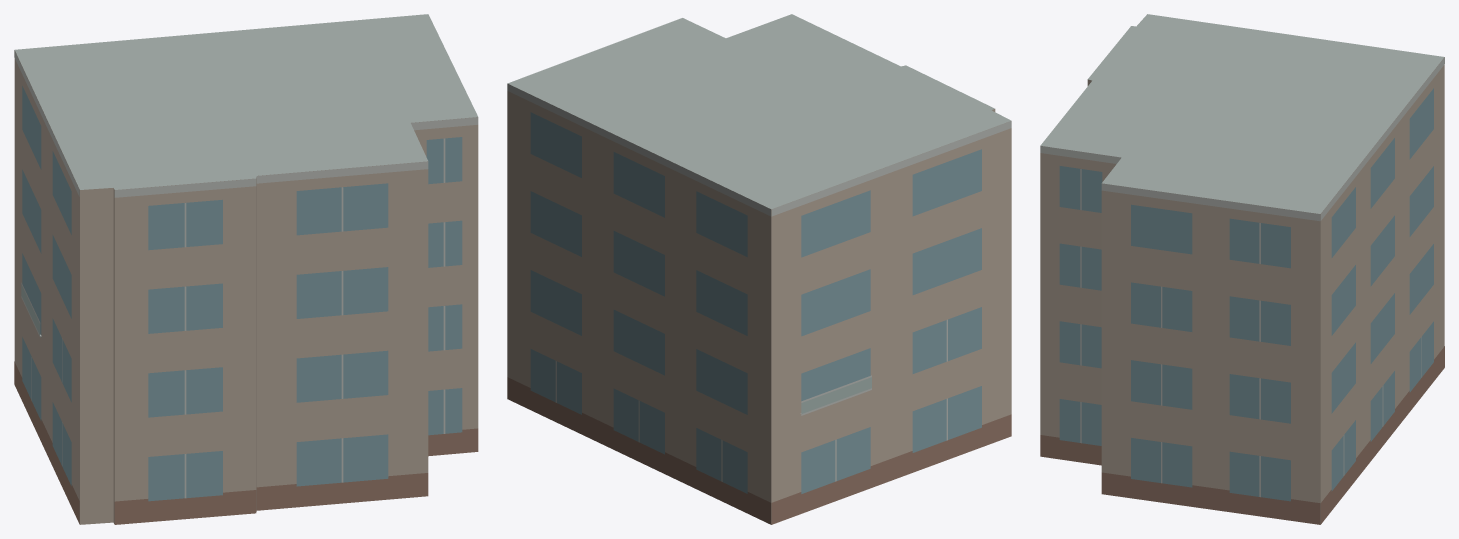
Rendered from survey-upis-32955405.glb.
The picture shows the model from 3 angles, left to right: view 1: azimuth 30°, elevation 25°; view 2: azimuth 150°, elevation 25°; view 3: azimuth 270°, elevation 25°; orthographic projection. The views are drawn at different scales.
Parts seen in each view (by area): view 1: survey-upis-32955405.tmp; view 2: survey-upis-32955405.tmp; view 3: survey-upis-32955405.tmp.
Part boxes in pixels (<box>): survey-upis-32955405.tmp: <box>14,14,478,524</box>; survey-upis-32955405.tmp: <box>507,14,1011,524</box>; survey-upis-32955405.tmp: <box>1040,14,1444,524</box>.
Size of the model in its own units: 14.51 by 10.5 by 12.39.
